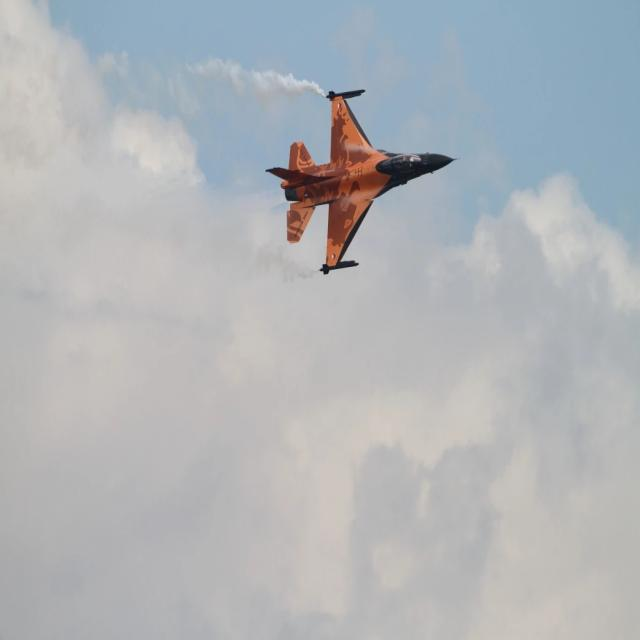MIL_Plane: (265, 88, 461, 276)
